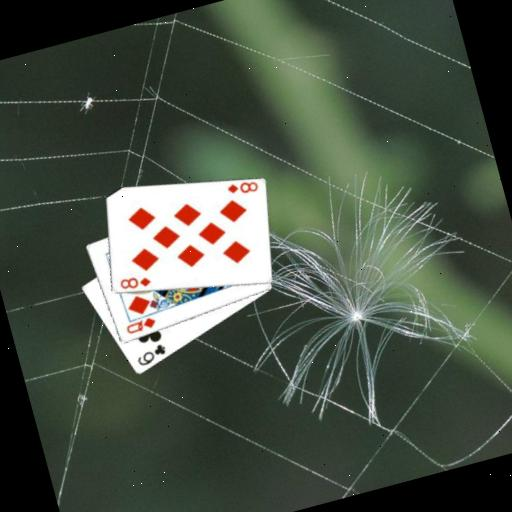6C: (131, 339, 170, 368)
8D: (115, 269, 153, 294), (222, 175, 260, 200)
QD: (121, 312, 158, 337)
